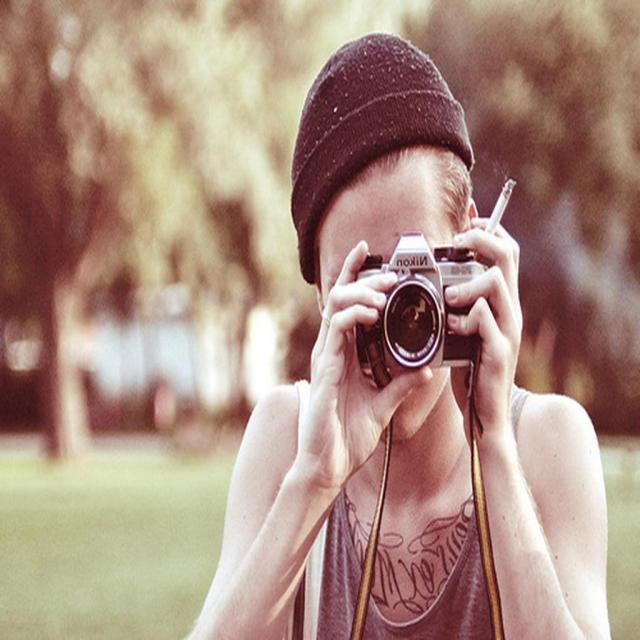smoking: (279, 84, 549, 521)
